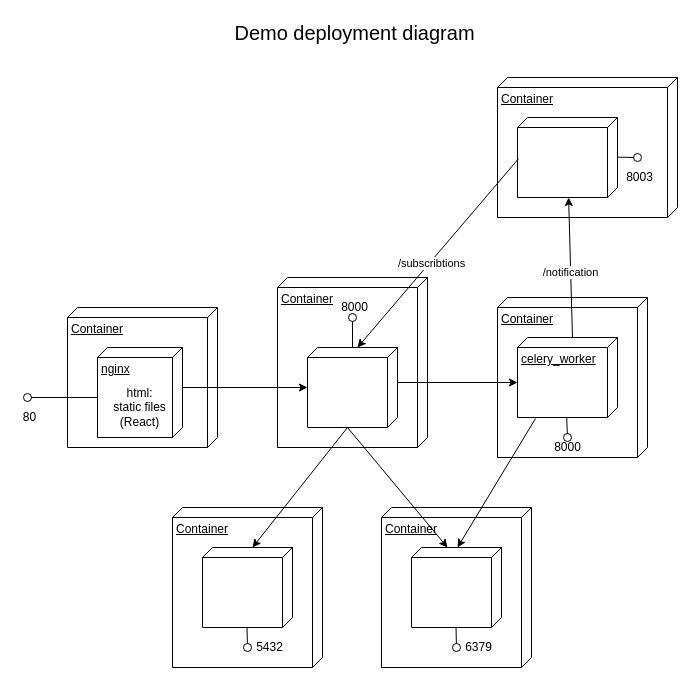
This 695x685 diagram has some shape labels left out. The shapes that lost their labels are listed below. From the top down, each one's centre as x and y in pixels, then its label:
point (567, 157): telegram_bot
point (352, 387): backend
point (247, 587): postgres
point (456, 587): redis
